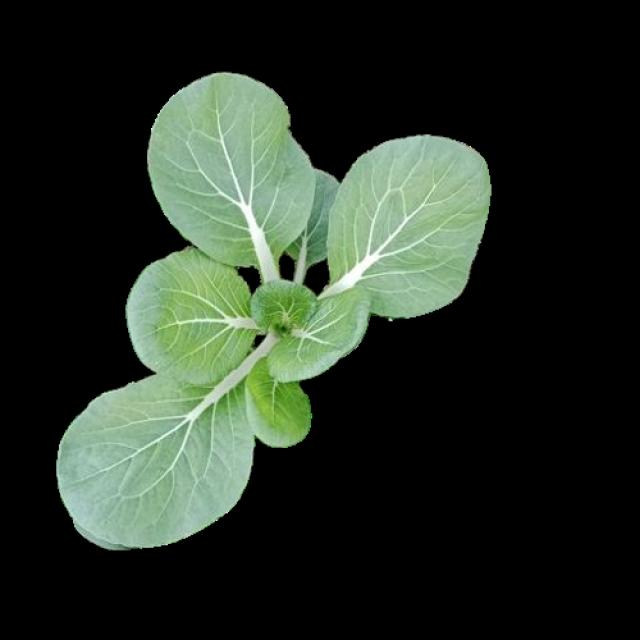healthy: (56, 69, 489, 542)
not-mature: (59, 72, 491, 544)
